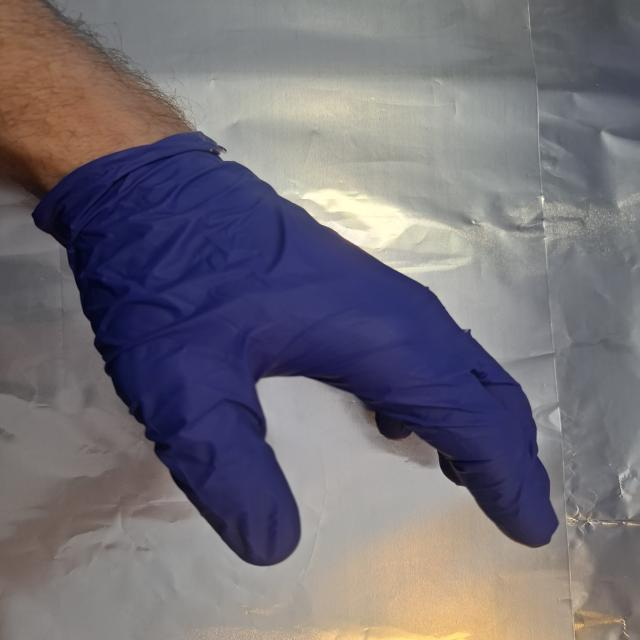glove_on: (64, 136, 562, 568)
